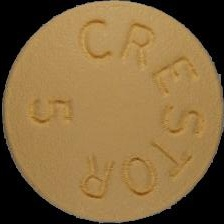55154-6923: (0, 0, 224, 224)
